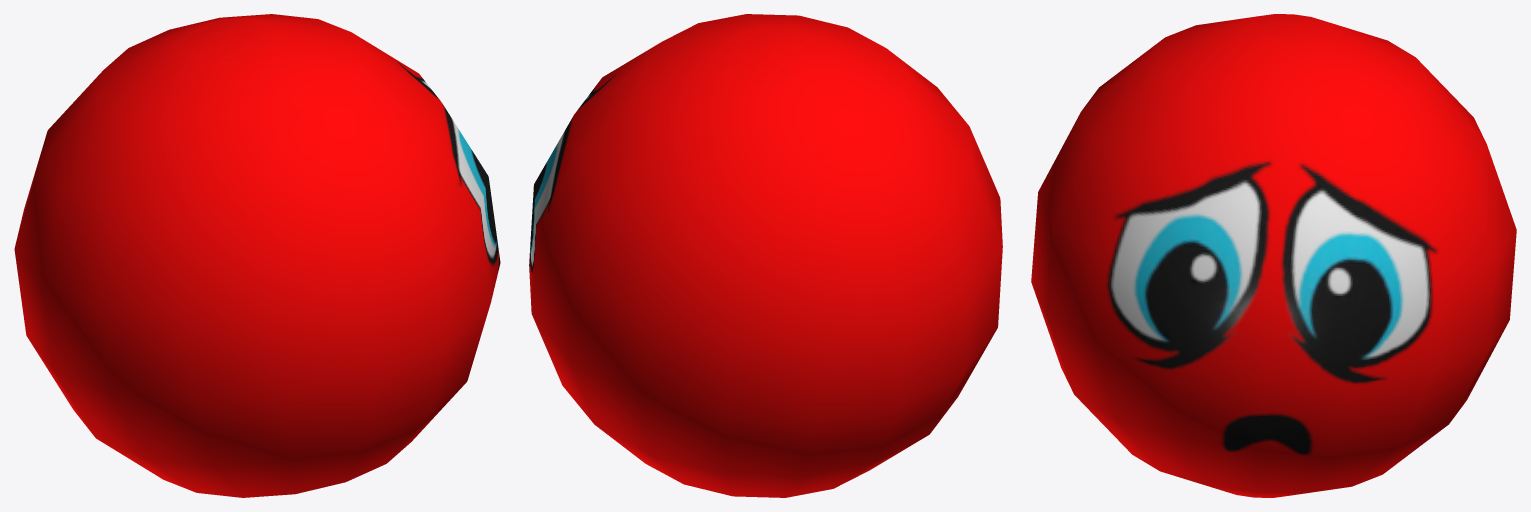
The model's file is red_ball.glb.
3 renders of one model, left to right at view 1: azimuth 30°, elevation 25°; view 2: azimuth 150°, elevation 25°; view 3: azimuth 270°, elevation 25°, orthographic.
Visible parts, largest first — view 1: 2; view 2: 2; view 3: 2.
Boxes of the visible parts, <box> form: 2: <box>14,14,500,497</box>; 2: <box>529,14,1002,497</box>; 2: <box>1031,14,1516,497</box>.
Size of the model in its own units: 1 by 1 by 0.9982.
Materials: 1 (1 with a texture image).
